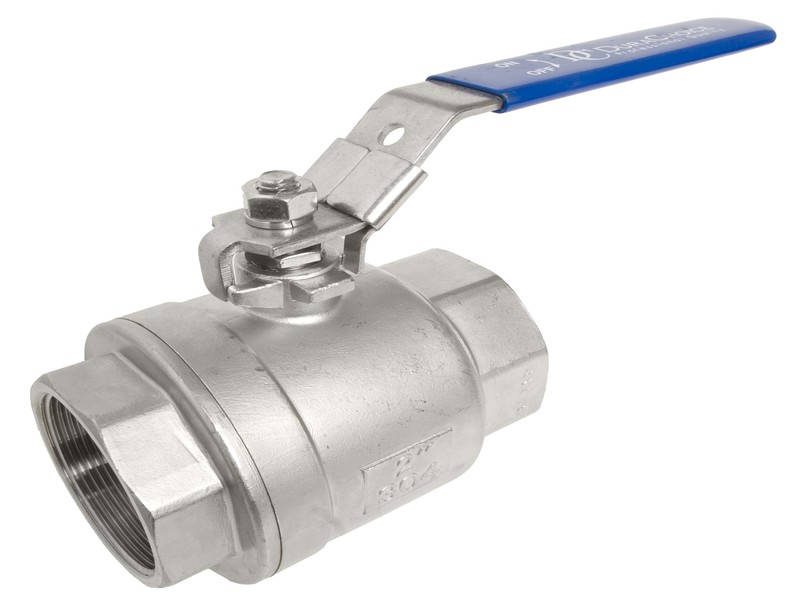valve: (8, 7, 784, 598)
